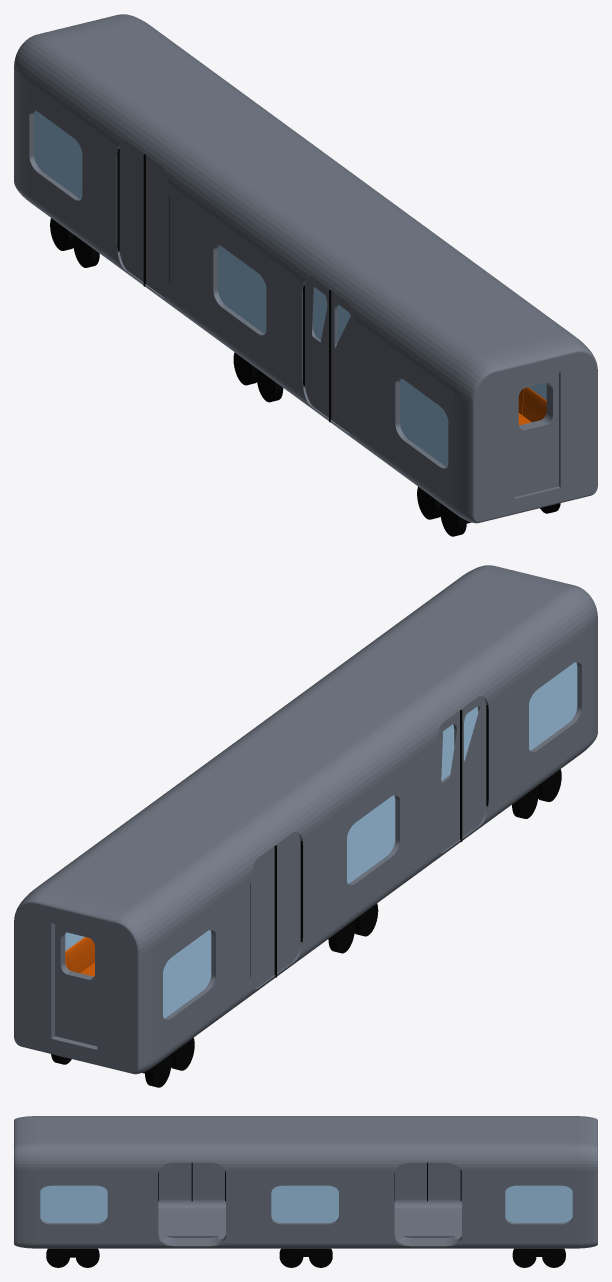
Rendered from bubwayinside.fbx.
The picture shows the model from 3 angles, top to bottom: view 1: azimuth 30°, elevation 25°; view 2: azimuth 150°, elevation 25°; view 3: azimuth 270°, elevation 25°; orthographic projection. The views are drawn at different scales.
Visible parts, largest first — view 1: car, GLASS.003, wheelthing.003, blackpart, seats; view 2: car, GLASS.003, wheelthing.003, blackpart, seats; view 3: car, GLASS.003, wheelthing.003, blackpart.
Part boxes in pixels (x1=…): car: x1=14, y1=14, x2=597, y2=523; GLASS.003: x1=34, y1=110, x2=546, y2=466; wheelthing.003: x1=50, y1=218, x2=560, y2=536; blackpart: x1=117, y1=148, x2=331, y2=422; seats: x1=518, y1=387, x2=546, y2=425; car: x1=14, y1=565, x2=597, y2=1074; GLASS.003: x1=65, y1=662, x2=577, y2=1018; wheelthing.003: x1=51, y1=769, x2=561, y2=1087; blackpart: x1=250, y1=705, x2=488, y2=977; seats: x1=65, y1=937, x2=94, y2=976; car: x1=14, y1=1116, x2=597, y2=1248; GLASS.003: x1=40, y1=1185, x2=572, y2=1222; wheelthing.003: x1=46, y1=1248, x2=565, y2=1267; blackpart: x1=158, y1=1162, x2=461, y2=1201.
Bounding box in the file's own units: 558 × 767 × 3324.
